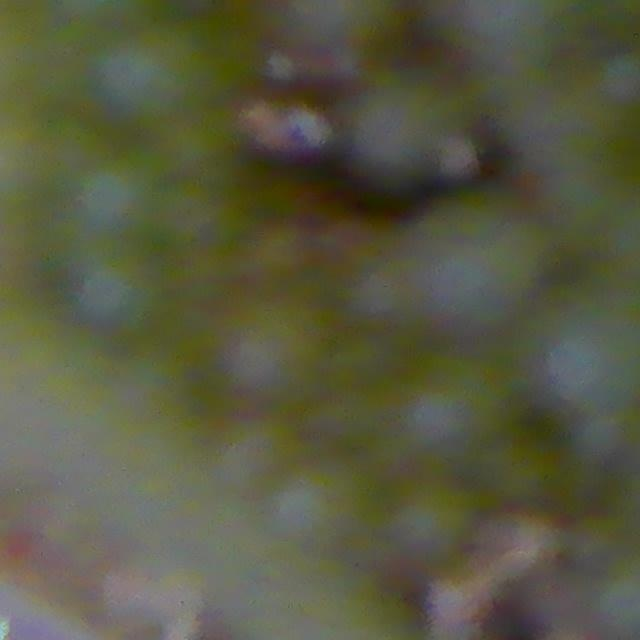SeaGrape: (99, 25, 208, 123), (389, 479, 479, 567), (75, 247, 165, 335), (74, 150, 160, 235)
